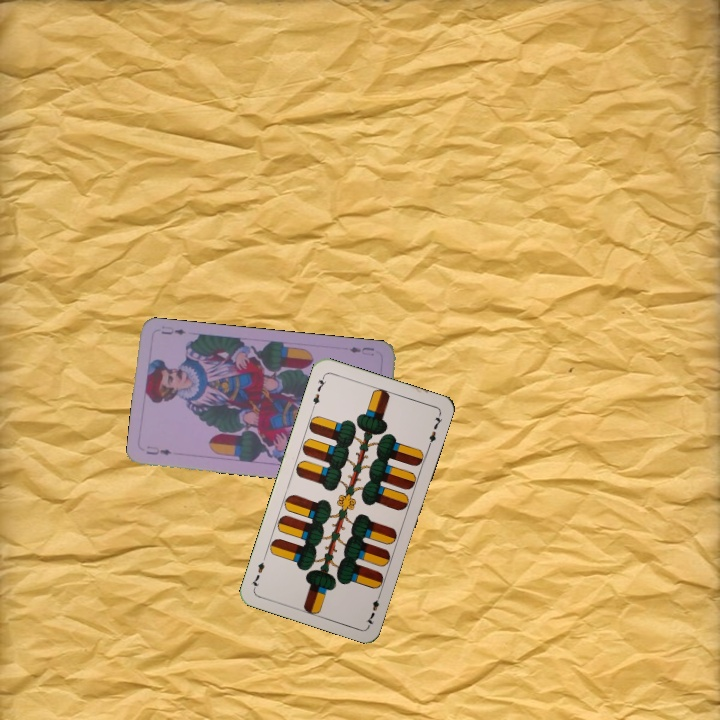E7: (362, 588, 383, 628), (308, 372, 329, 411)
EU: (142, 442, 174, 458), (345, 343, 376, 358)
